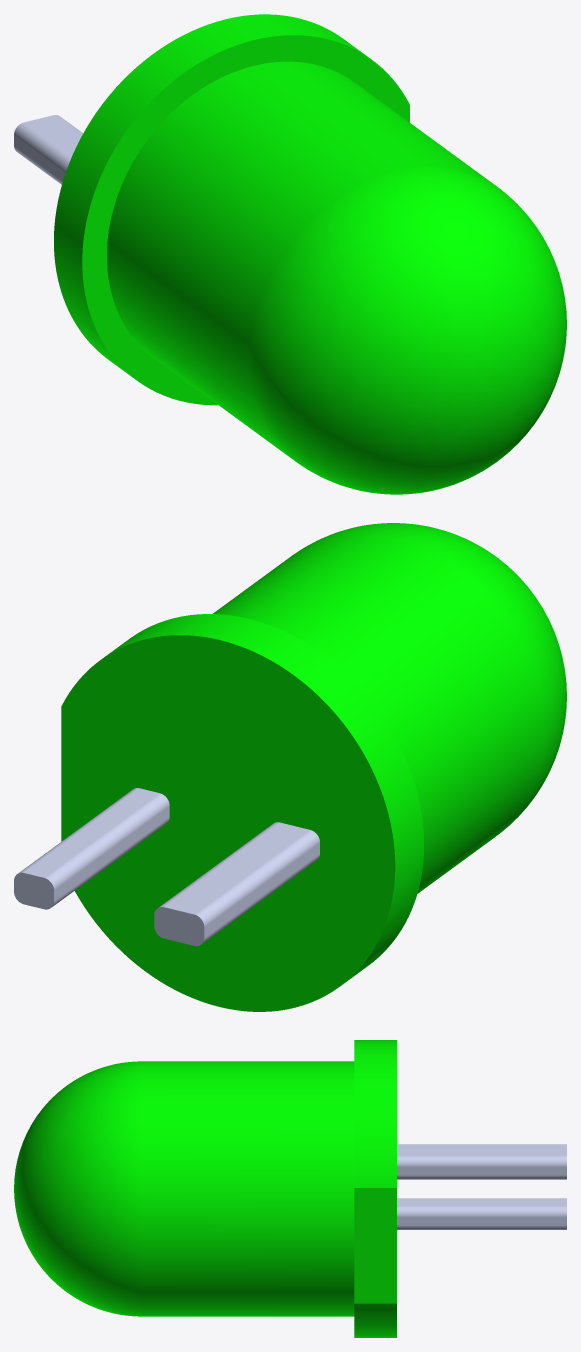
The model's file is led-3mm.glb.
3 views of the same model, one above another, from view 1: azimuth 30°, elevation 25°; view 2: azimuth 150°, elevation 25°; view 3: azimuth 270°, elevation 25° (orthographic). The views are drawn at different scales.
Visible parts, largest first — view 1: LED 3mm; view 2: LED 3mm; view 3: LED 3mm.
Part boxes in pixels (<box>): LED 3mm: <box>14,14,566,494</box>; LED 3mm: <box>14,523,566,1011</box>; LED 3mm: <box>14,1040,566,1337</box>.
Bounding box in the file's own units: 3.33 × 3.5 × 6.5.
